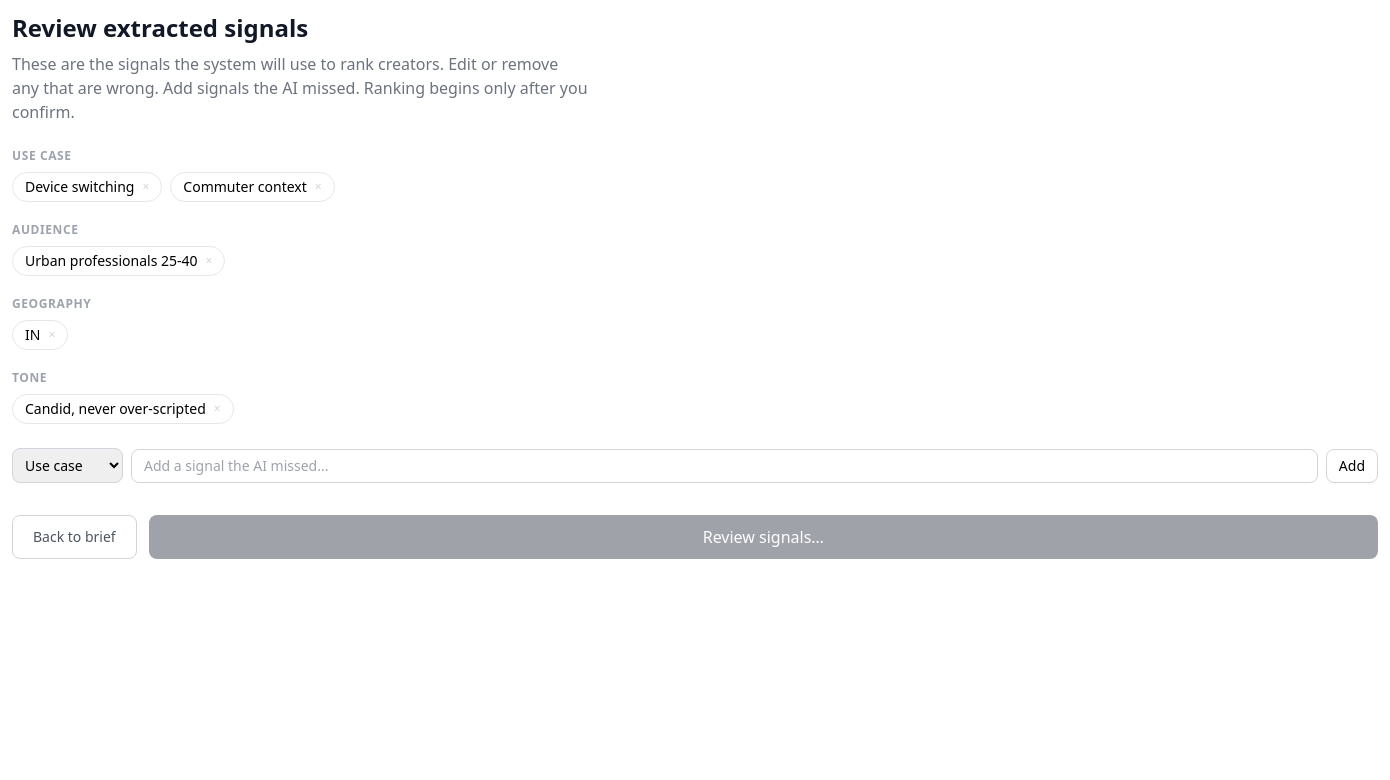
SignalConfirmationScreen › marks added chip with +you label
This screenshot has width=1390, height=780.
Type "New signal" into the field with placeholder "Add a signal the AI missed..." at (724, 466), box [131,448,1318,482]
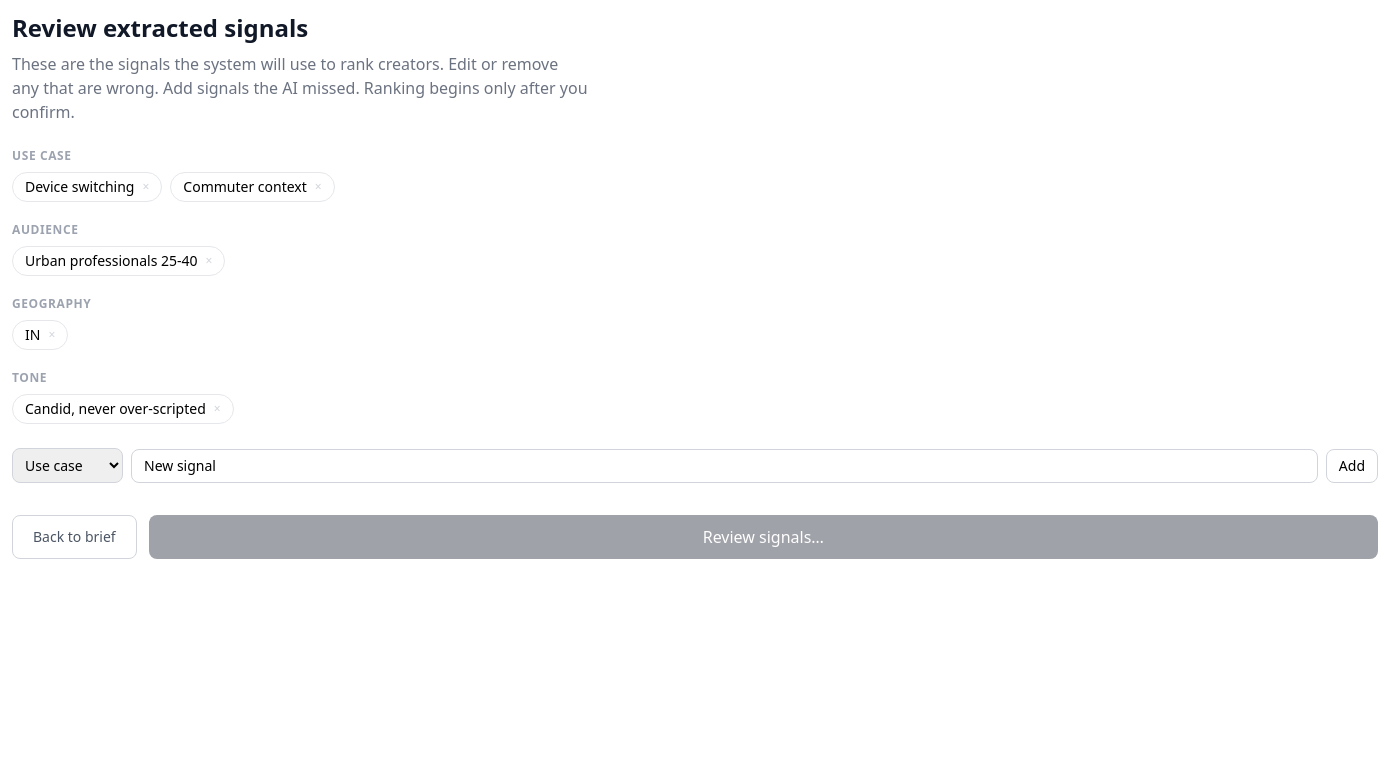
Click the button "Add" at (1352, 466), box [1326,448,1378,482]
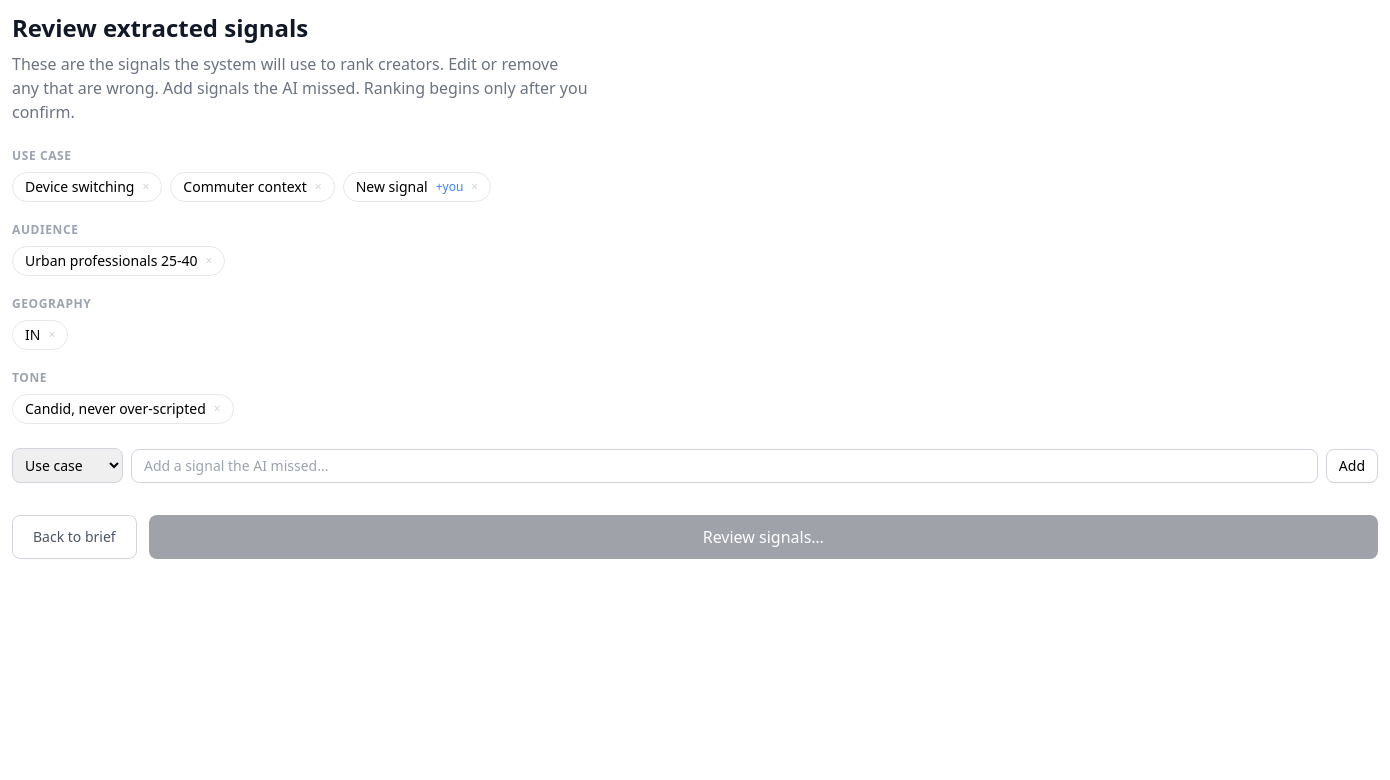
Expected: the text "+you" is shown, [436,179,463,195]
